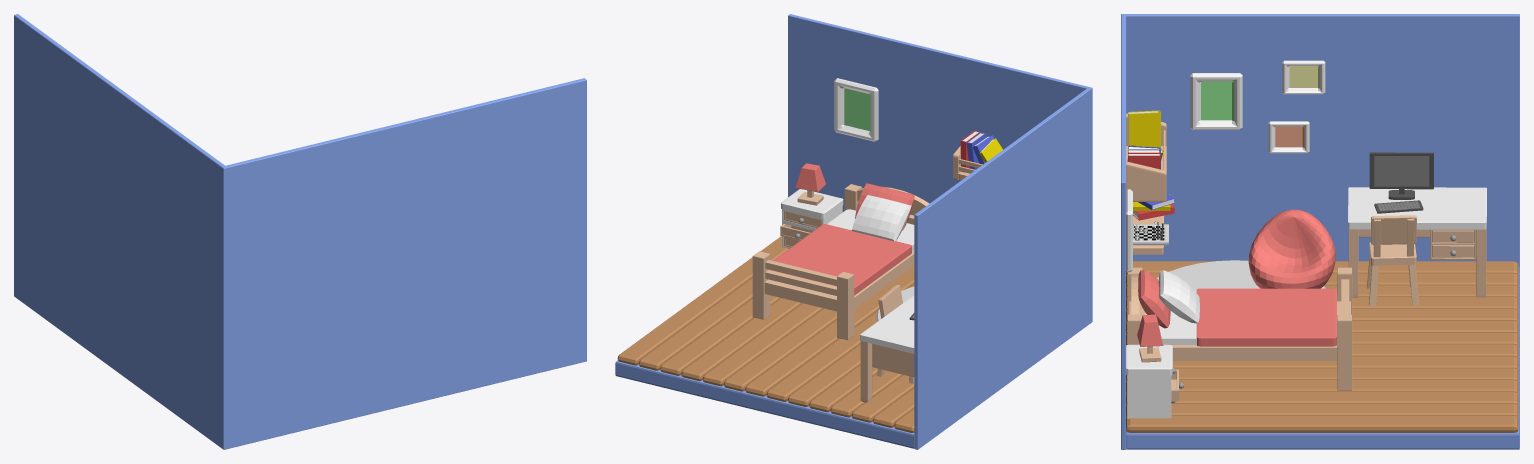
The model's file is sceneV4.glb.
3 views of the same model, side by side, from view 1: azimuth 30°, elevation 25°; view 2: azimuth 150°, elevation 25°; view 3: azimuth 270°, elevation 25° (orthographic). The views are drawn at different scales.
Visible parts, largest first — view 1: Wall; view 2: Wall, WoodFloor2, Bed, WoodFloor1, Floor, Table, Picture 4, Bedside table, Book stack 2, Lamp, Chair, Wall bookshelf; view 3: Wall, WoodFloor2, Bed, WoodFloor1, Table, Floor, Seat, Bedside table, Chair, Picture 1, PC, Carpet (+11 smaller).
Boxes of the visible parts, x1,y1,x2,y2 form: Wall: (14, 14, 586, 449); Wall: (788, 14, 1092, 449); WoodFloor2: (617, 236, 914, 396); Bed: (752, 183, 929, 340); WoodFloor1: (766, 284, 914, 432); Floor: (615, 360, 914, 448); Table: (860, 295, 914, 402); Picture 4: (834, 78, 878, 141); Bedside table: (780, 189, 843, 248); Book stack 2: (960, 130, 1002, 172); Lamp: (795, 163, 825, 205); Chair: (877, 285, 914, 383); Wall bookshelf: (953, 146, 982, 180); Wall: (1121, 14, 1519, 449); WoodFloor2: (1126, 344, 1518, 432); Bed: (1128, 267, 1352, 390); WoodFloor1: (1126, 261, 1518, 347); Table: (1348, 187, 1486, 297); Floor: (1126, 267, 1519, 449); Seat: (1248, 209, 1335, 288); Bedside table: (1126, 344, 1183, 418); Chair: (1366, 215, 1418, 306); Picture 1: (1190, 73, 1242, 129); PC: (1369, 152, 1433, 199); Carpet: (1157, 260, 1325, 290).
Size of the model in its own units: 8.1 by 6 by 8.1.
